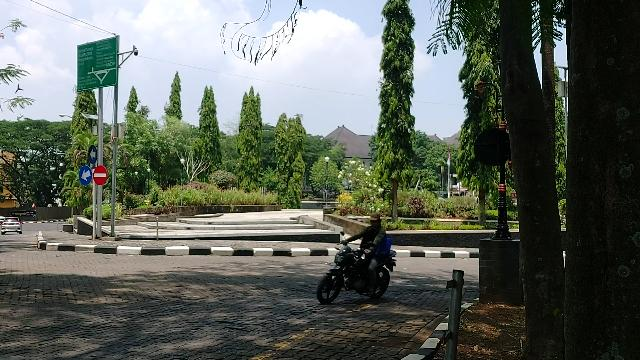motor: (320, 248, 399, 304)
non-helm: (370, 214, 383, 228)
